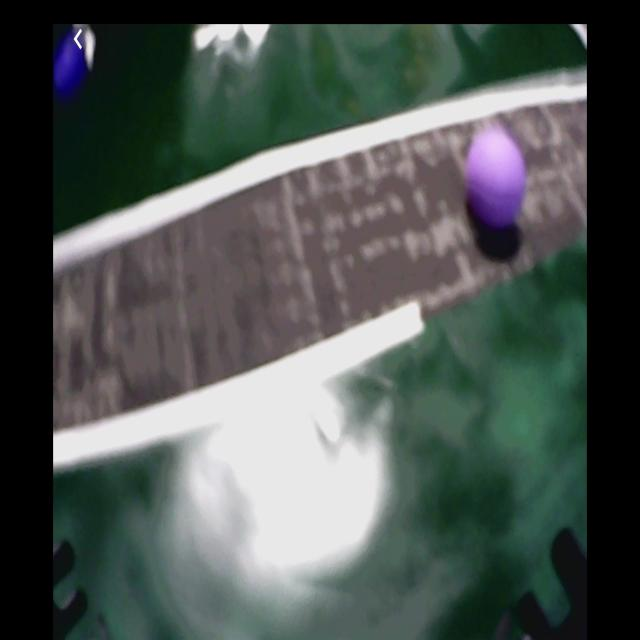ball: (465, 130, 525, 230), (56, 36, 86, 99)
